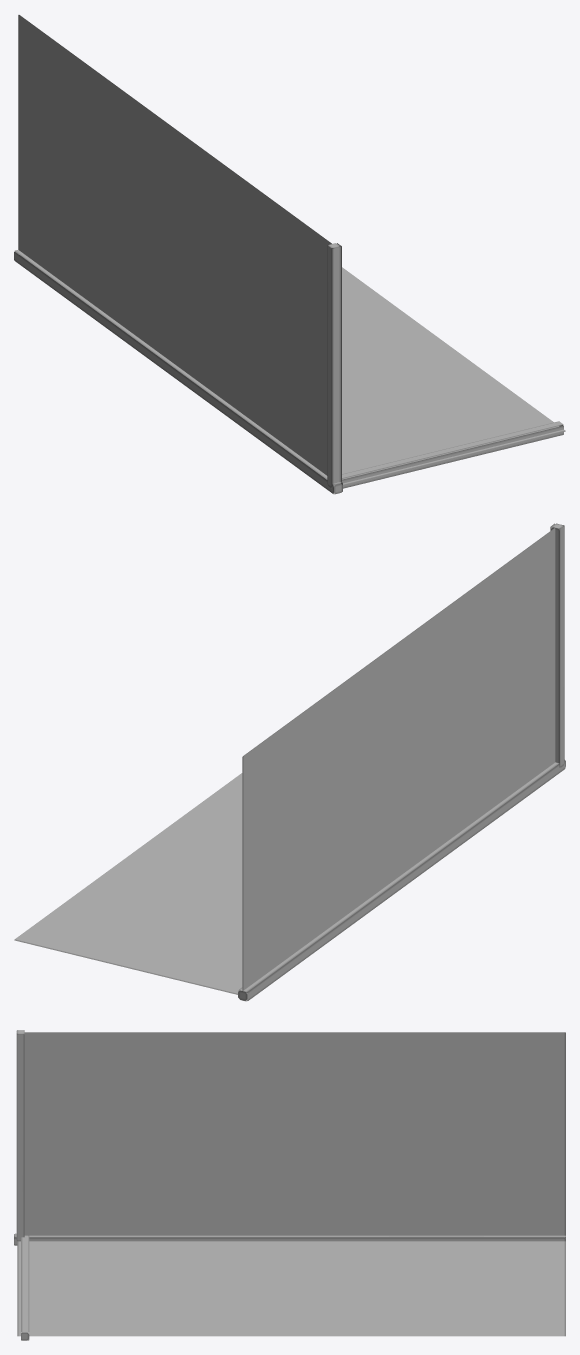
Rendered from pz_fence_png_fencing_01_52.obj.
The picture shows the model from 3 angles, top to bottom: view 1: azimuth 30°, elevation 25°; view 2: azimuth 150°, elevation 25°; view 3: azimuth 270°, elevation 25°; orthographic projection. The views are drawn at different scales.
Bounding box in the file's own units: 1.02 × 1.02 × 2.41.
Materials: 1 (1 with a texture image).
